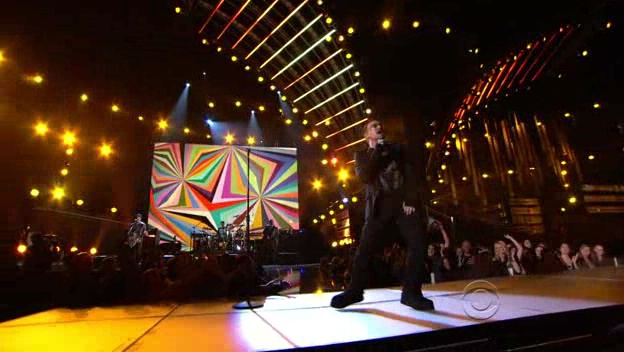person: (353, 119, 421, 232), (350, 119, 418, 232), (356, 119, 424, 232), (353, 116, 421, 229), (353, 122, 421, 235)
target_negative: (210, 16, 335, 346), (57, 71, 231, 291), (510, 144, 621, 326), (305, 296, 509, 335), (232, 34, 467, 63), (504, 245, 577, 276)
